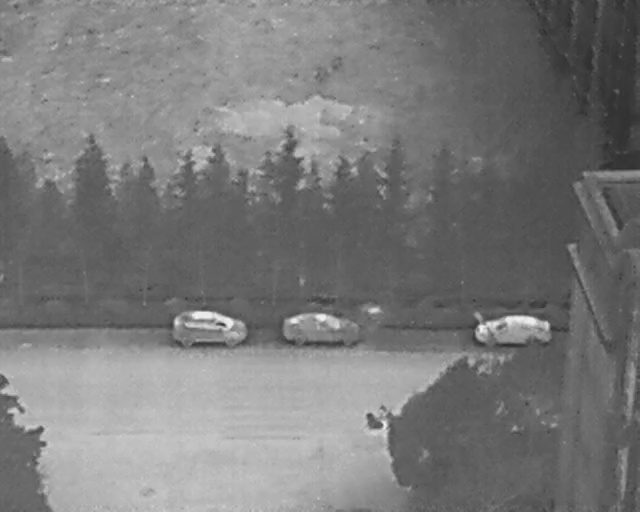Car: (171, 308, 247, 347), (475, 311, 553, 348), (281, 312, 364, 346)
